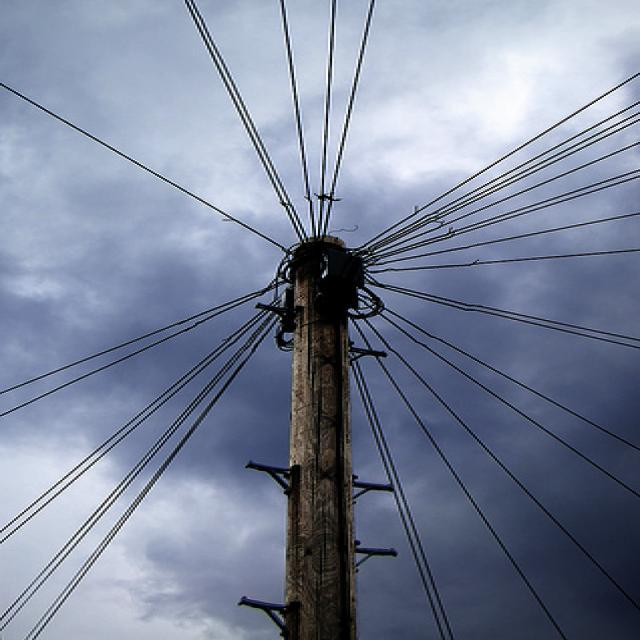pole: (250, 248, 372, 640)
wire: (0, 304, 286, 629), (15, 317, 283, 640), (362, 317, 640, 612), (353, 324, 572, 640), (0, 299, 282, 544), (356, 63, 640, 257), (0, 83, 292, 252), (380, 312, 640, 499), (386, 306, 640, 453), (385, 100, 640, 241), (376, 117, 640, 250), (4, 279, 287, 398), (366, 142, 640, 256), (181, 0, 302, 241), (353, 370, 461, 638), (367, 167, 640, 260), (368, 174, 640, 262), (367, 273, 638, 342), (365, 210, 639, 268), (314, 0, 378, 242), (278, 0, 318, 224), (368, 243, 640, 275), (312, 1, 340, 235)
